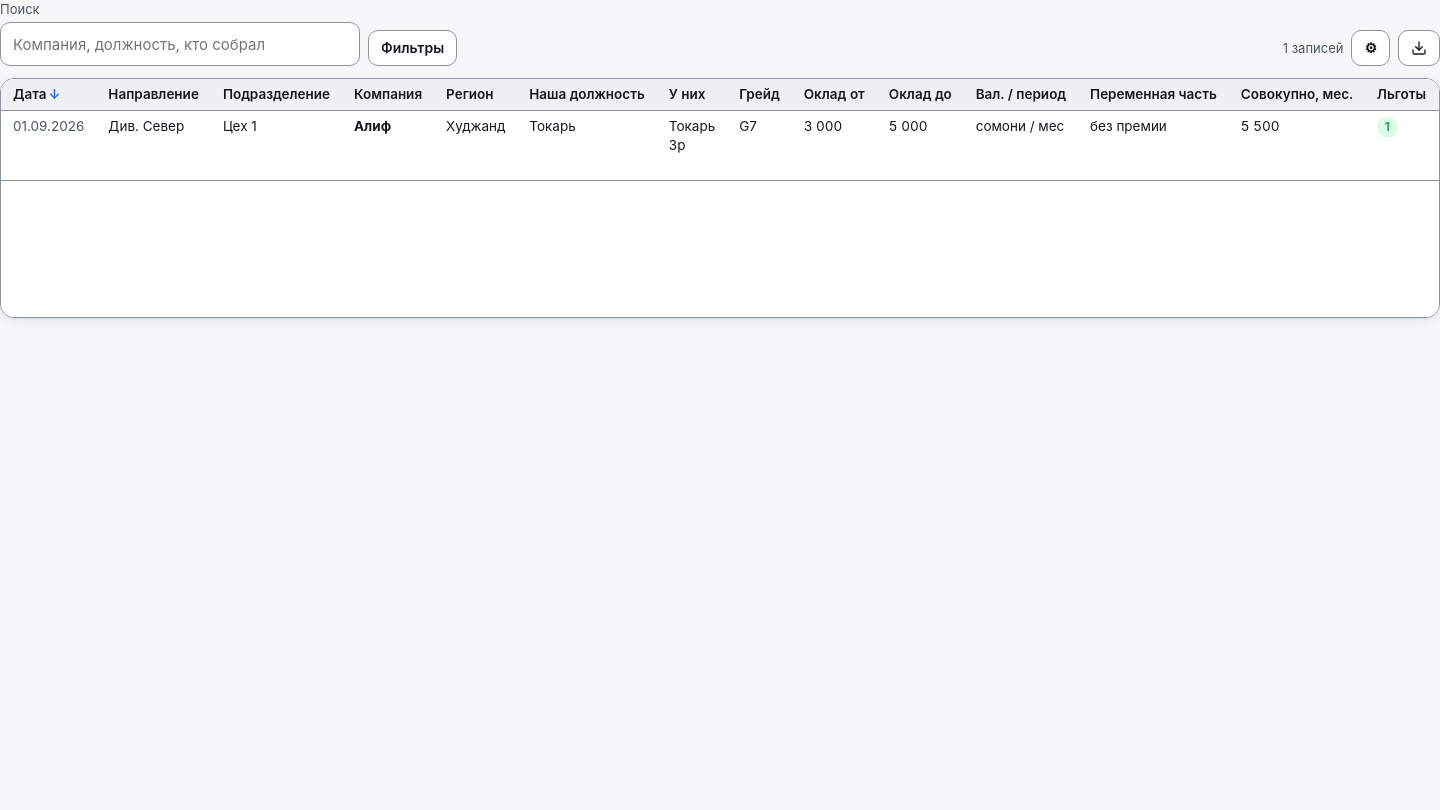
Test: в карточке наблюдения виден совокупный доход
The width and height of the screenshot is (1440, 810).
Click the cell "Алиф" at (388, 145), box [342,111,434,180]
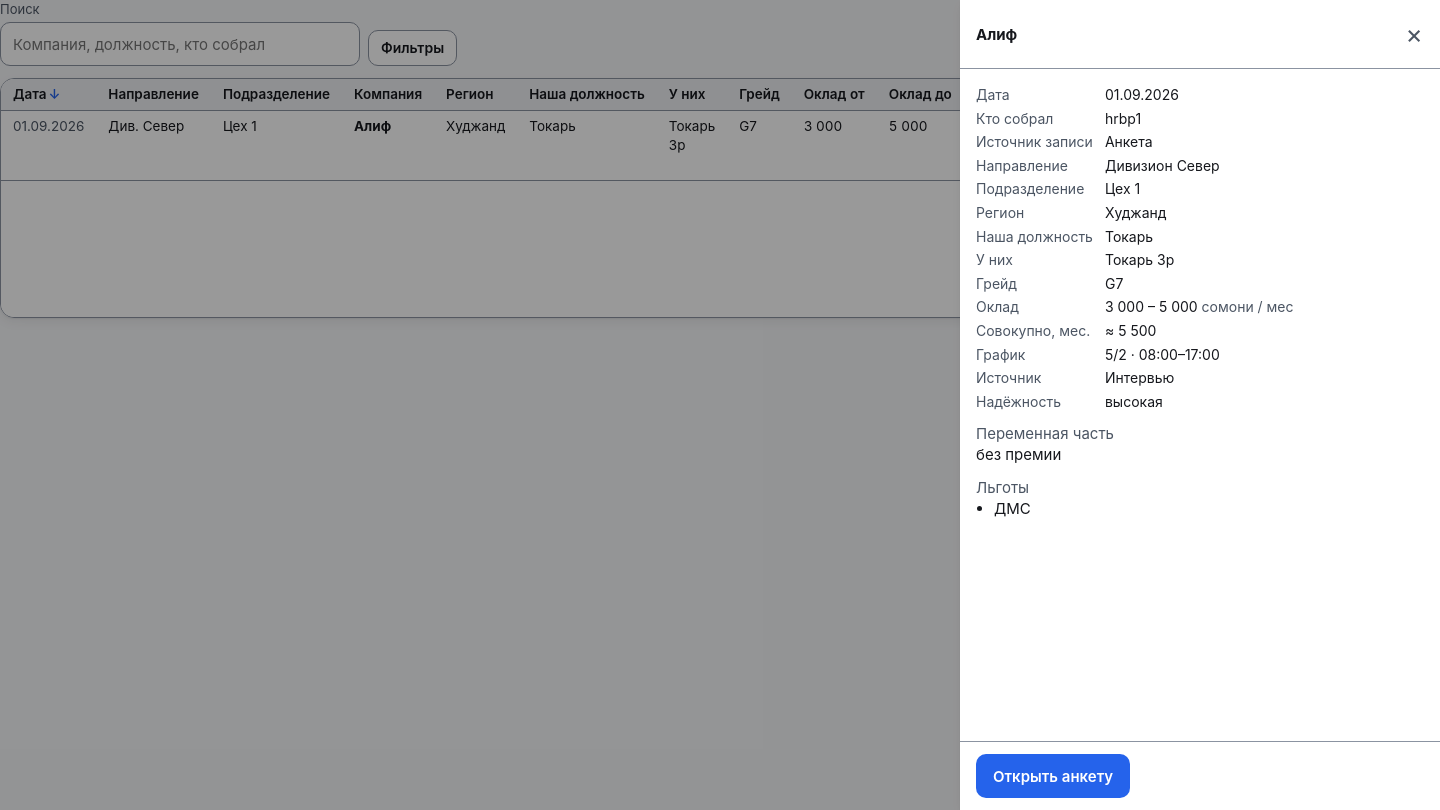
Now the text "≈ 5 500" is shown, box [1105,322,1156,339]
